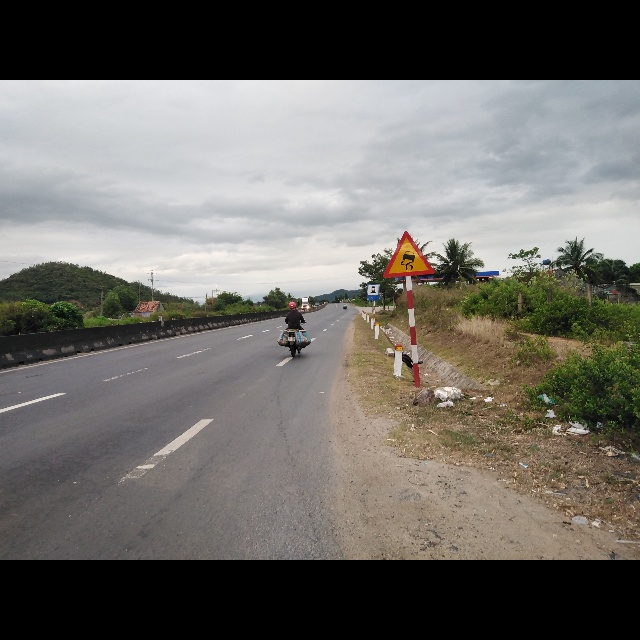Đường trơn trượt: (383, 229, 434, 280)
